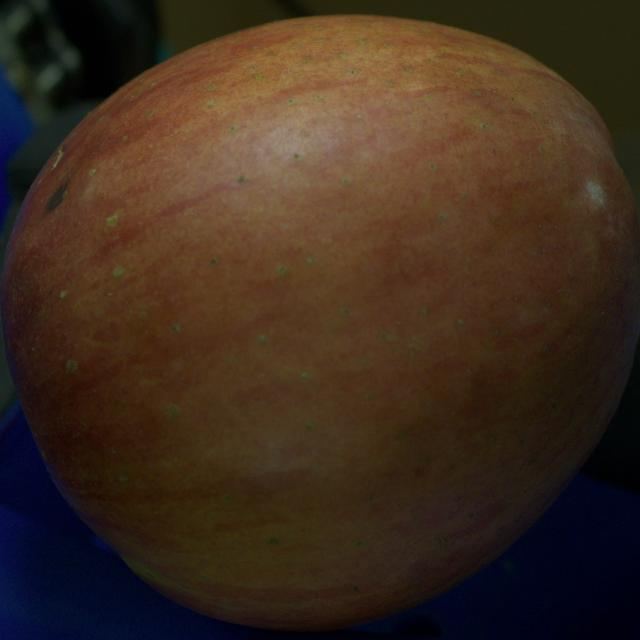apple: (0, 16, 639, 629)
pest: (46, 185, 66, 211)
scratch: (50, 147, 64, 170)
